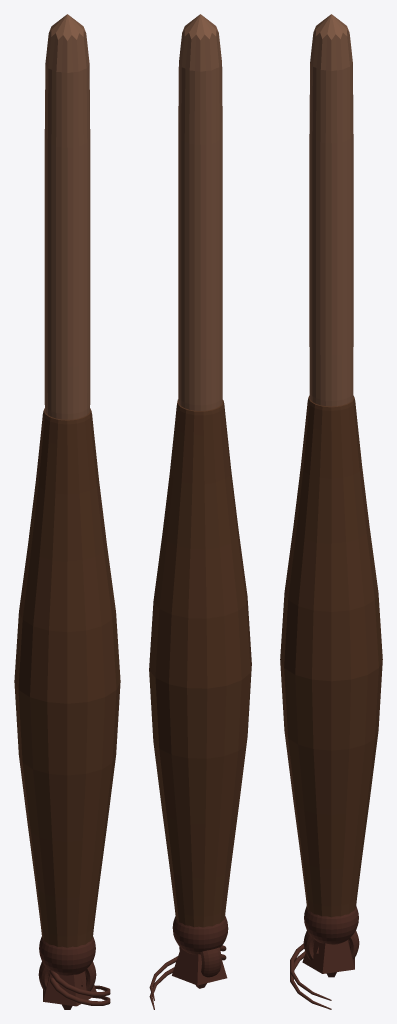
File: Wand 119.glb
The picture shows the model from 3 angles, left to right: view 1: azimuth 90°, elevation 25°; view 2: azimuth 210°, elevation 25°; view 3: azimuth 270°, elevation 25°; orthographic projection. The views are drawn at different scales.
Visible parts, largest first — view 1: GeneratedWand, Pommel_4, Pommel_9, Pommel_2, Pommel_10; view 2: GeneratedWand, Pommel_4, Pommel_9, Pommel_2; view 3: GeneratedWand, Pommel_4, Pommel_9, Pommel_2, Pommel_10.
Part boxes in pixels (box(x1,y1,x2,y2)): GeneratedWand: box(14, 14, 120, 996); Pommel_4: box(39, 936, 95, 975); Pommel_9: box(43, 971, 96, 1006); Pommel_2: box(38, 961, 96, 991); Pommel_10: box(48, 972, 110, 1005); GeneratedWand: box(149, 14, 251, 1000); Pommel_4: box(172, 916, 228, 954); Pommel_9: box(172, 948, 227, 985); Pommel_2: box(179, 946, 221, 977); GeneratedWand: box(280, 14, 382, 1000); Pommel_4: box(304, 906, 358, 944); Pommel_9: box(302, 940, 354, 973); Pommel_2: box(303, 931, 359, 960); Pommel_10: box(290, 951, 331, 1009).
Size of the model in its own units: 0.0507 by 0.5214 by 0.0499.
